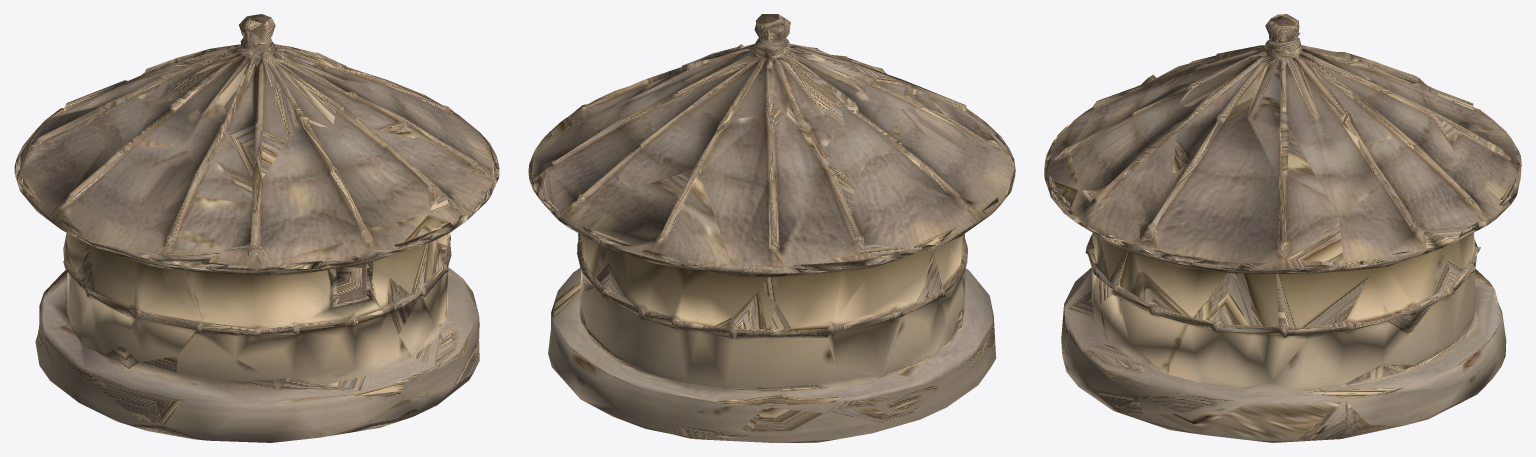
File: granary_b_lod1.glb
The picture shows the model from 3 angles, left to right: view 1: azimuth 30°, elevation 25°; view 2: azimuth 150°, elevation 25°; view 3: azimuth 270°, elevation 25°; orthographic projection.
Parts seen in each view (by area): view 1: node_0; view 2: node_0; view 3: node_0.
Part boxes in pixels (x1,y1,x2,y2): node_0: [14, 14, 499, 442]; node_0: [528, 14, 1015, 442]; node_0: [1044, 14, 1521, 442].
Bounding box in the file's own units: 5.46 × 4.19 × 5.47.
1 material, 1 textured.
